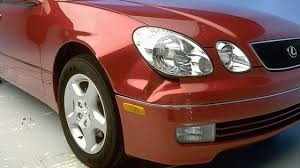Dent: (101, 44, 197, 108)
